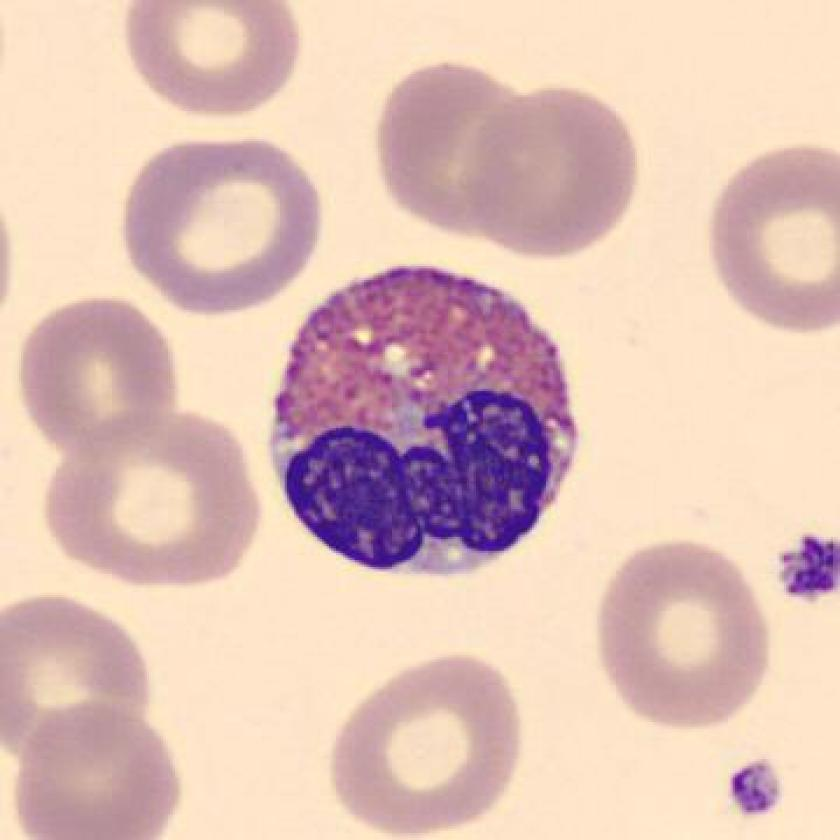eosinophil: (251, 253, 601, 598)
